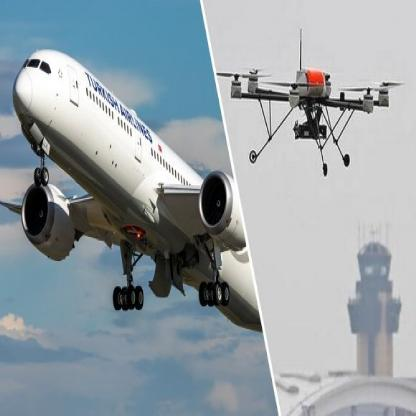drone: (215, 52, 408, 154)
